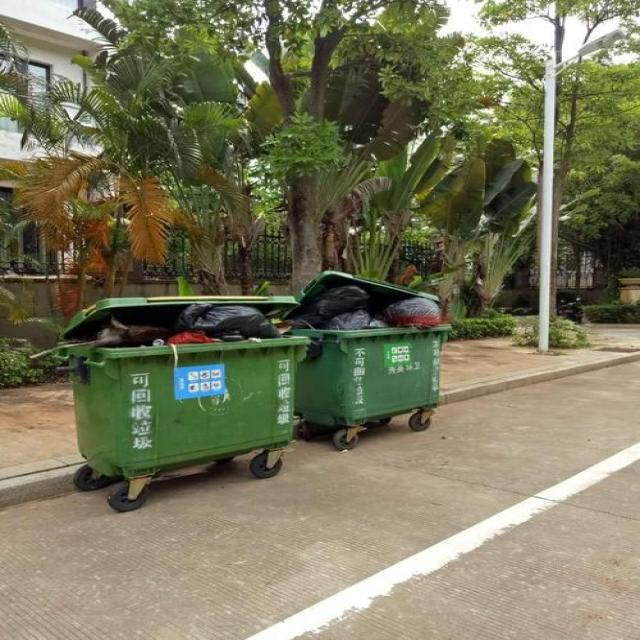overflow: (25, 295, 308, 475), (285, 271, 452, 423)
